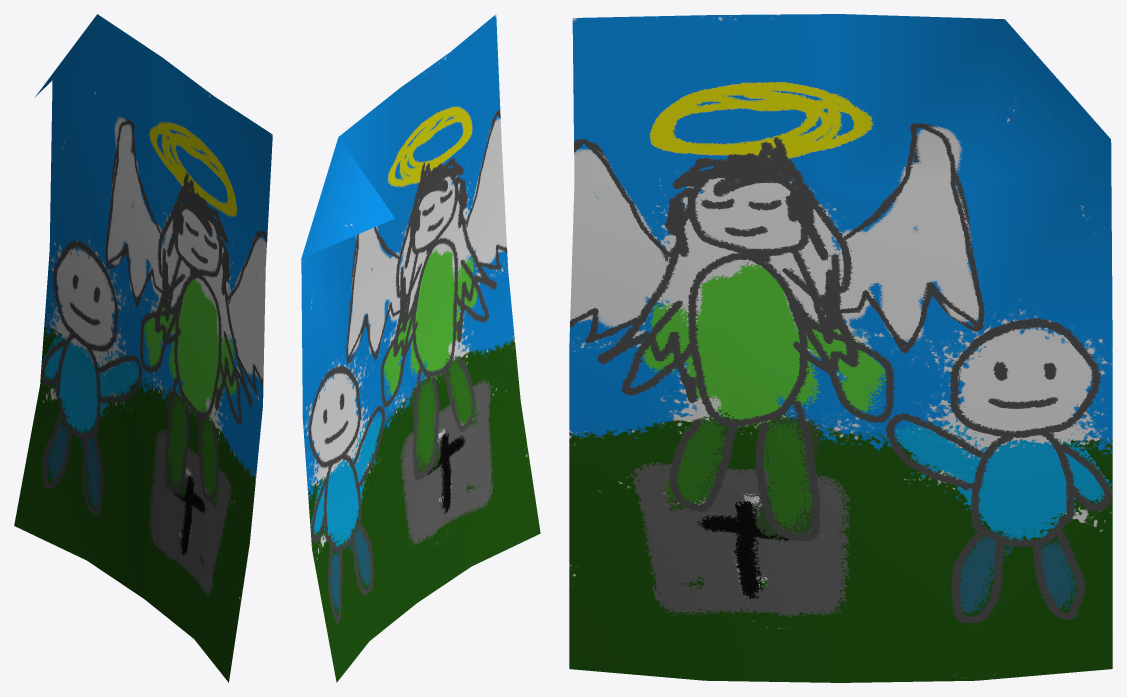
The model's file is dessin.fbx.
3 views of the same model, side by side, from view 1: azimuth 30°, elevation 25°; view 2: azimuth 150°, elevation 25°; view 3: azimuth 270°, elevation 25° (orthographic). The views are drawn at different scales.
Parts seen in each view (by area): view 1: Plane001; view 2: Plane001; view 3: Plane001.
Boxes of the visible parts, x1,y1,x2,y2 form: Plane001: (14,14,272,682); Plane001: (301,14,540,682); Plane001: (569,14,1112,682).
Size of the model in its own units: 2.52 by 19.59 by 14.19.
